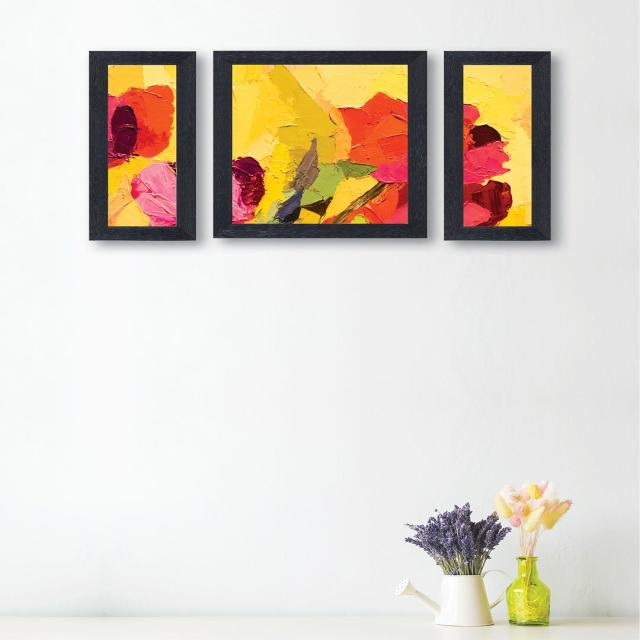painting: (212, 48, 429, 236), (442, 51, 552, 240), (88, 49, 195, 240)
